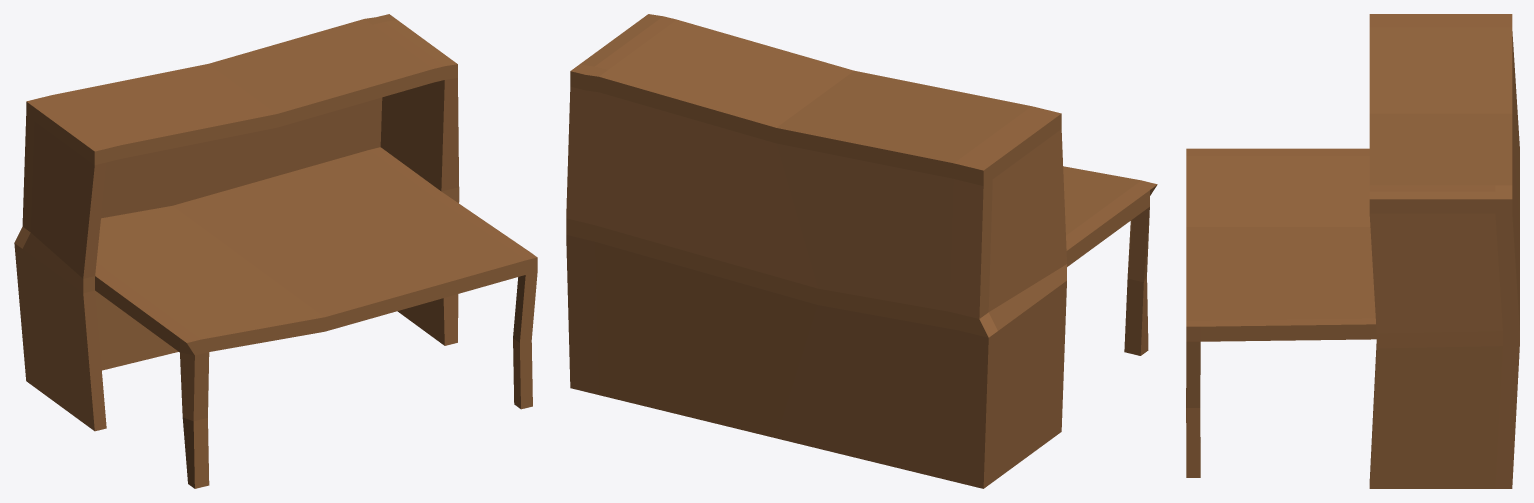
File: Closet4.fbx
3 views of the same model, side by side, from view 1: azimuth 30°, elevation 25°; view 2: azimuth 150°, elevation 25°; view 3: azimuth 270°, elevation 25° (orthographic). The views are drawn at different scales.
Parts seen in each view (by area): view 1: Cube.274; view 2: Cube.274; view 3: Cube.274.
Part boxes in pixels (x1,y1,x2,y2): Cube.274: (14,14,537,488); Cube.274: (566,14,1157,488); Cube.274: (1186,14,1519,488).
Bounding box in the file's own units: 633 × 450 × 468.
